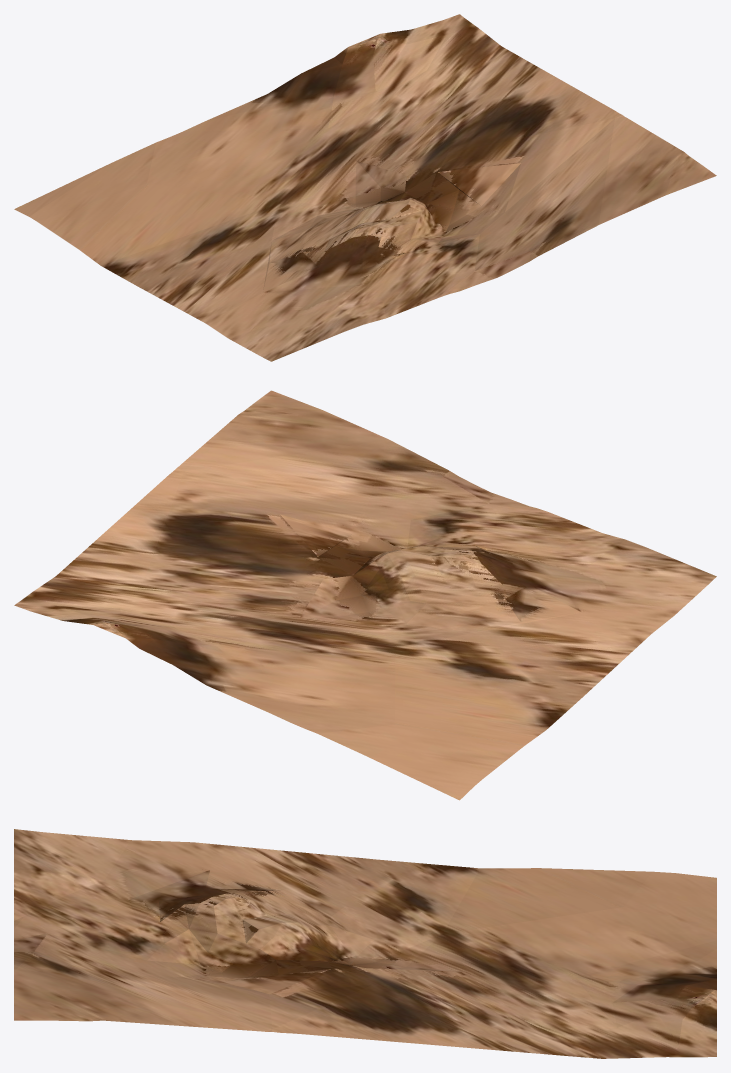
The picture shows the model from 3 angles, top to bottom: view 1: azimuth 30°, elevation 25°; view 2: azimuth 150°, elevation 25°; view 3: azimuth 270°, elevation 25°; orthographic projection. The views are drawn at different scales.
Size of the model in its own units: 1.04 by 0.2531 by 1.04.
3 materials, 3 textured.
